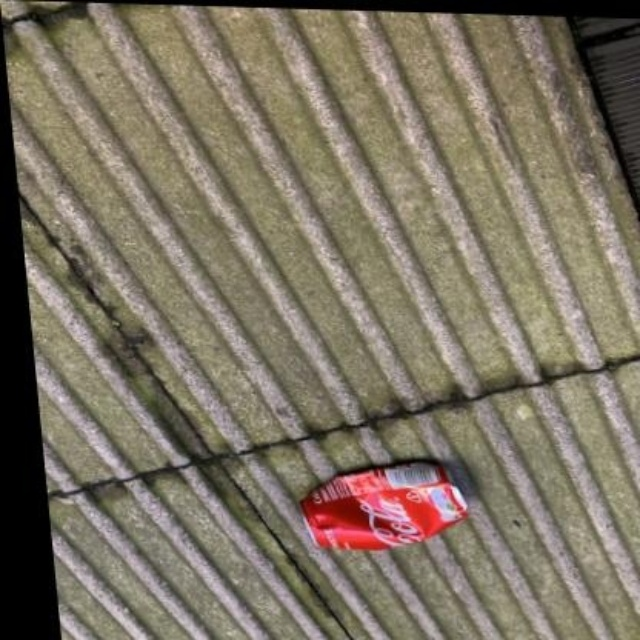trash: (302, 460, 466, 548)
